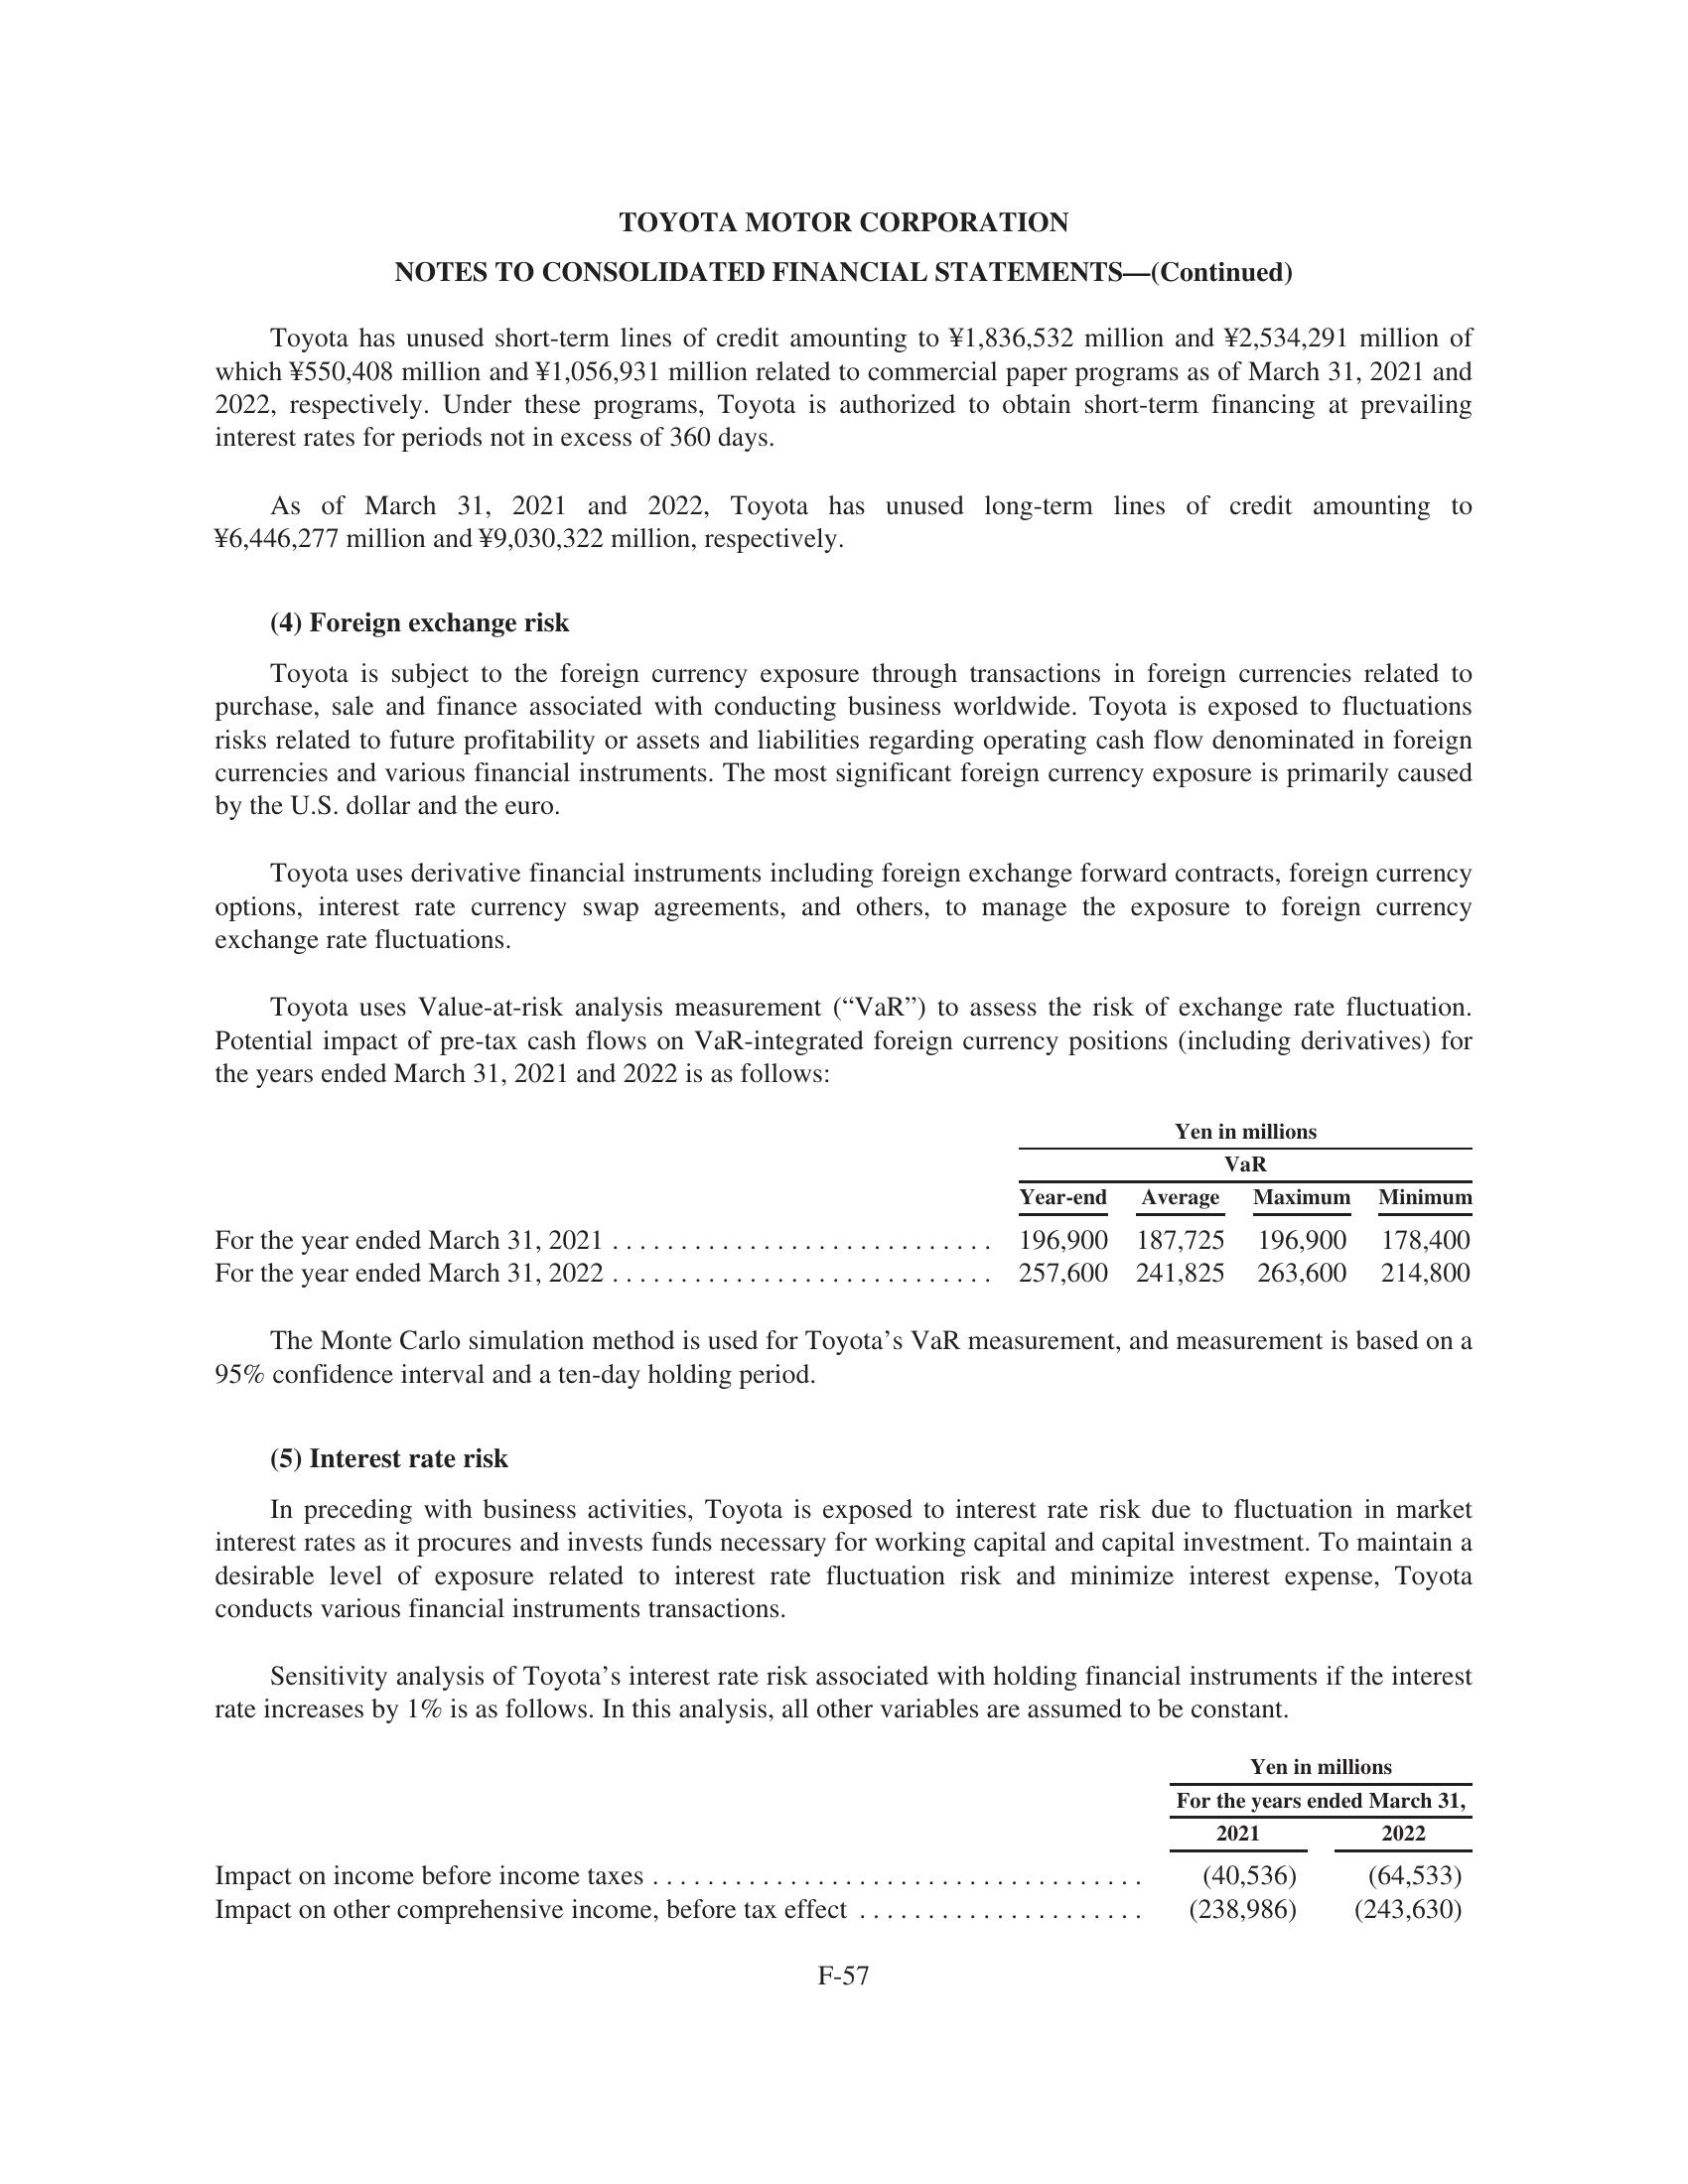Footer: (0, 1954, 1688, 2184)
Header: (0, 0, 1688, 188)
Table: (176, 1094, 1528, 1303), (193, 1741, 1491, 1946)
